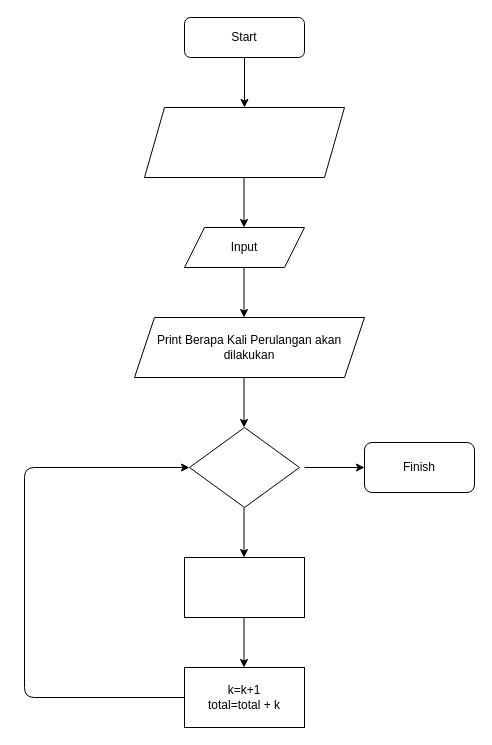
The diagram is 492 pixels wide and 745 high, and some of its shapes have lost their labels. The shapes that lost their labels are listed below. From the top down, each one's box as (x1, y1, x2, y2) in pixels, then its label:
(144, 106, 344, 178): Print Program Perulangan dan Penjumlahan
(188, 426, 300, 508): i = 1 1=<n
(184, 556, 304, 618): i++
